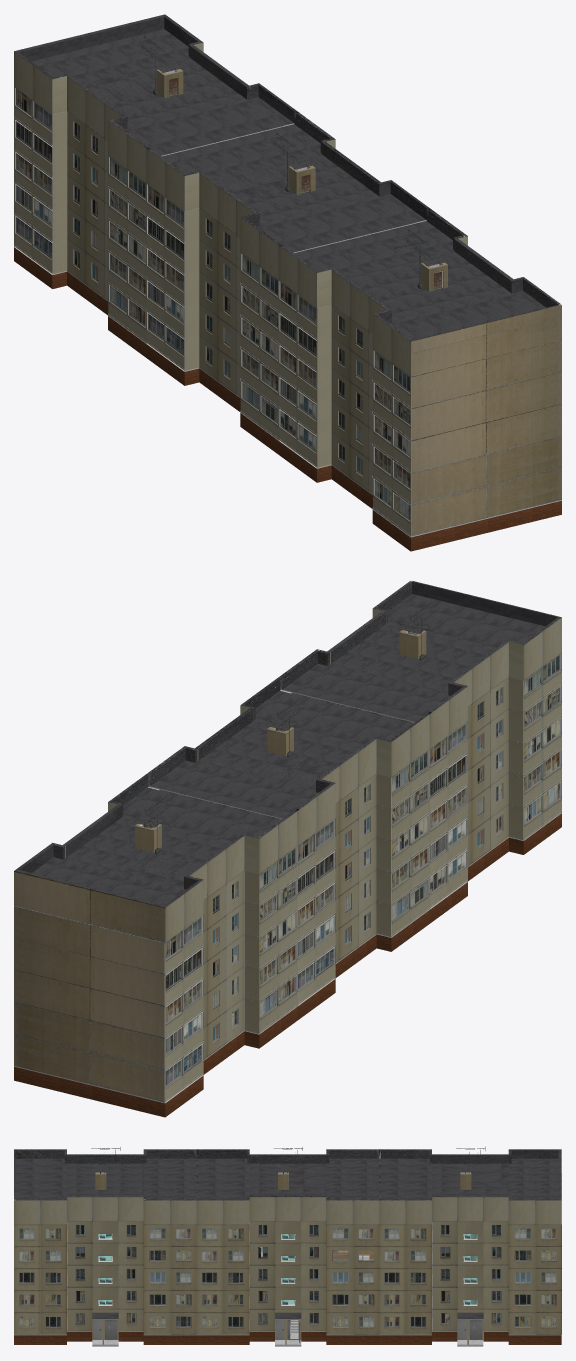
The model's file is mainhouse.fbx.
The picture shows the model from 3 angles, top to bottom: view 1: azimuth 30°, elevation 25°; view 2: azimuth 150°, elevation 25°; view 3: azimuth 270°, elevation 25°; orthographic projection. The views are drawn at different scales.
Visible parts, largest first — view 1: roof, 1floor, 3floor, 2floor, 4floor, 5floor; view 2: roof, 1floor, 3floor, 2floor, 4floor, 5floor; view 3: roof, 1floor, 2floor, 3floor, 5floor, 4floor.
Part boxes in pixels (x1,y1,x2,y2): roof: (14,14,561,376); 1floor: (14,214,561,551); 3floor: (14,150,561,473); 2floor: (14,182,561,505); 4floor: (14,118,561,441); 5floor: (14,87,561,409); roof: (14,580,561,942); 1floor: (14,780,561,1117); 3floor: (14,716,561,1039); 2floor: (14,748,561,1071); 4floor: (14,684,561,1007); 5floor: (14,653,561,975); roof: (14,1146,561,1224); 1floor: (14,1300,561,1346); 2floor: (14,1278,561,1312); 3floor: (14,1256,561,1290); 5floor: (14,1174,561,1246); 4floor: (14,1234,561,1268).
Bounding box in the file's own units: 1439 × 2149 × 6180.
